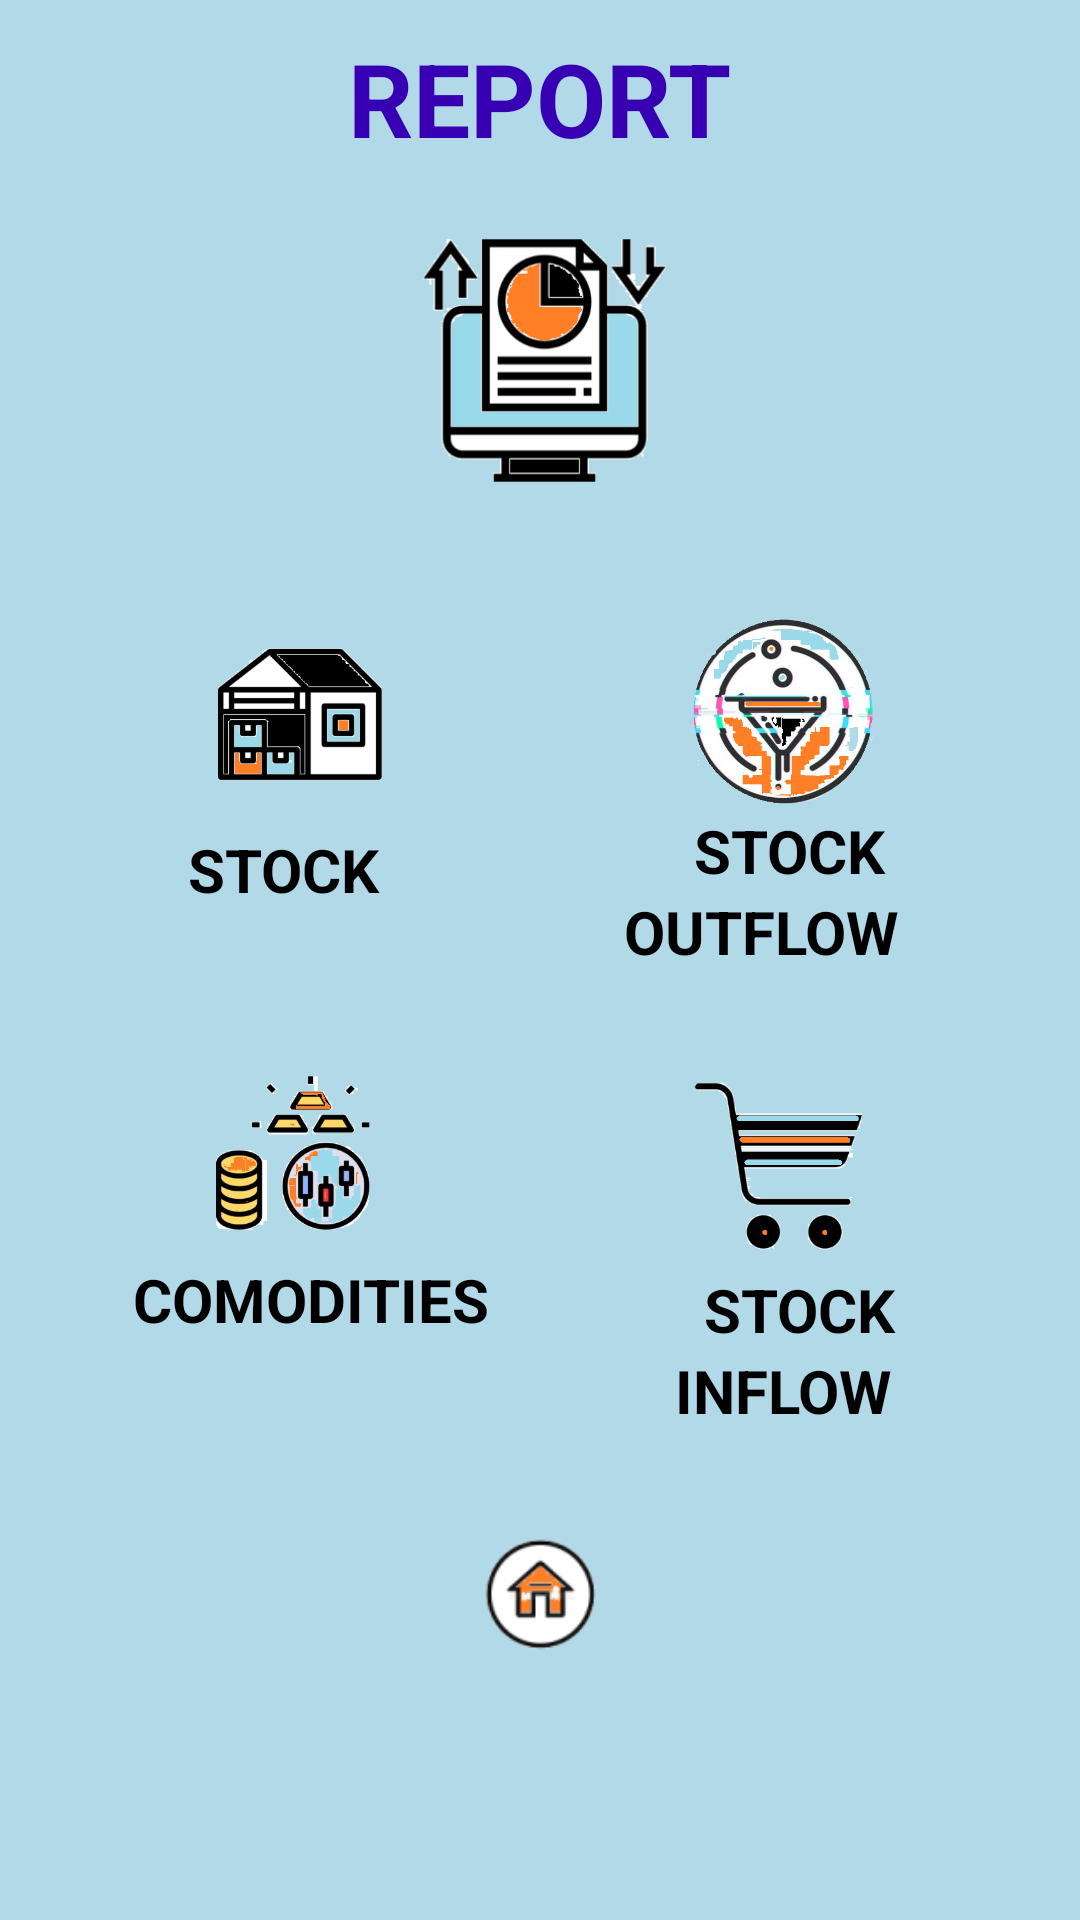

Where to tap for icons on this 1080 x 1920 app screen, as (x=x, y=y):
purcha: (x=778, y=1166)
